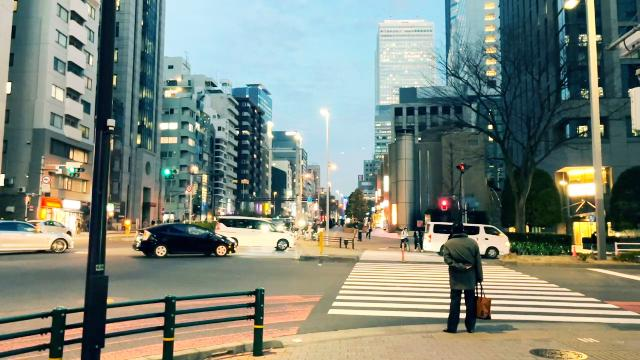berdiri: (432, 216, 491, 338)
